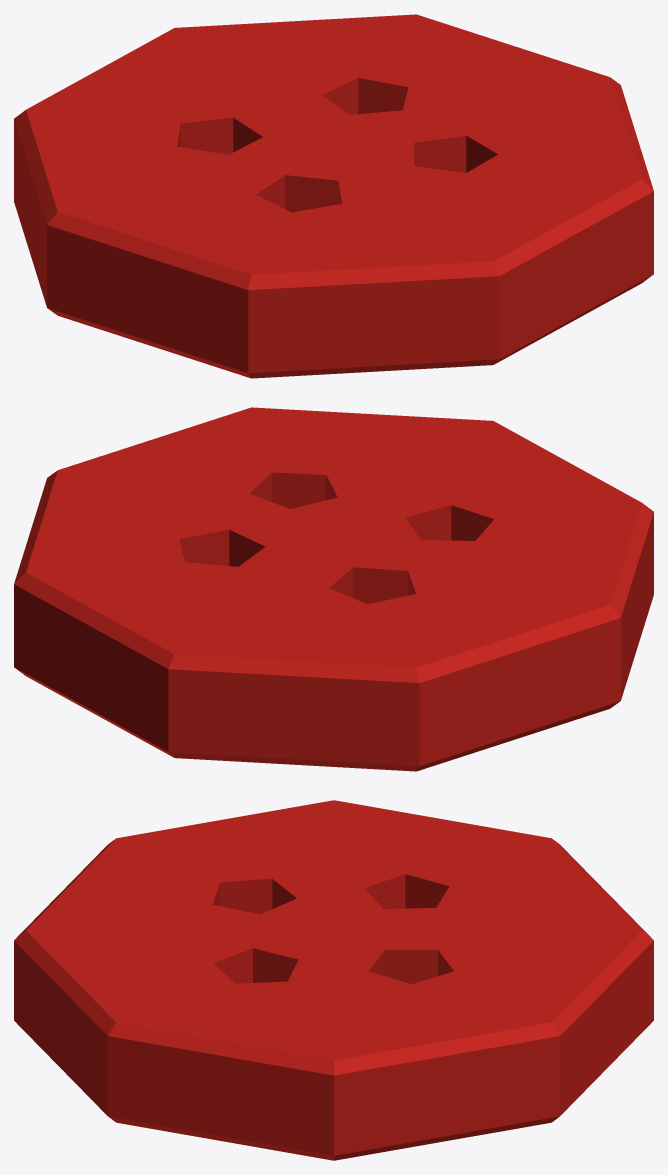
Rendered from button.fbx.
3 views of the same model, one above another, from view 1: azimuth 30°, elevation 25°; view 2: azimuth 150°, elevation 25°; view 3: azimuth 270°, elevation 25° (orthographic). The views are drawn at different scales.
Visible parts, largest first — view 1: Cylinder002; view 2: Cylinder002; view 3: Cylinder002.
Part boxes in pixels (left/top/right/bottom): Cylinder002: left=14, top=14, right=653, bottom=378; Cylinder002: left=14, top=407, right=653, bottom=771; Cylinder002: left=14, top=800, right=653, bottom=1160.
Size of the model in its own units: 1.77 by 0.3058 by 1.77.
